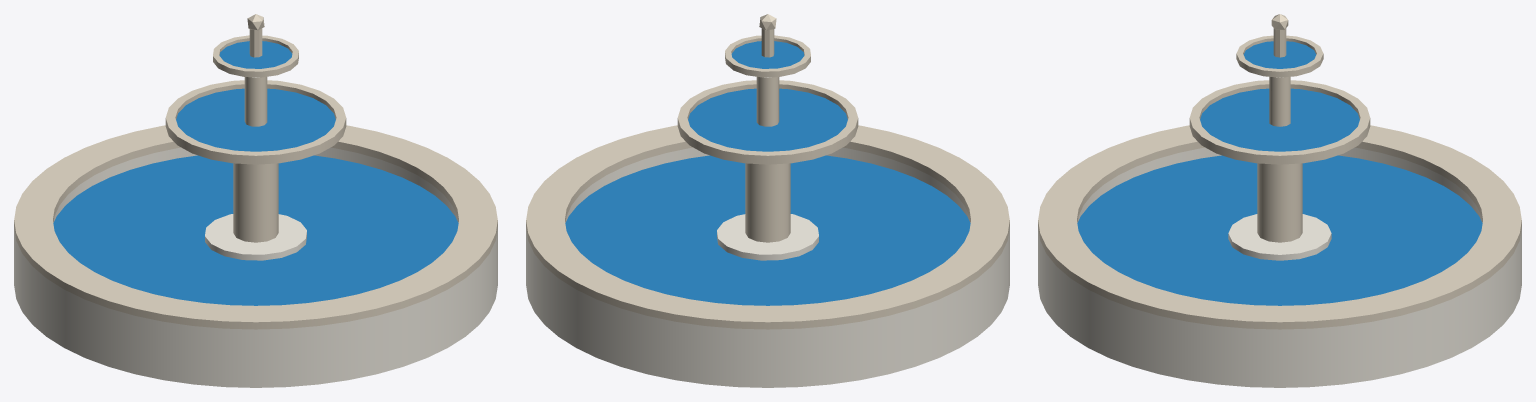
Rendered from fountain.glb.
The picture shows the model from 3 angles, left to right: view 1: azimuth 30°, elevation 25°; view 2: azimuth 150°, elevation 25°; view 3: azimuth 270°, elevation 25°; orthographic projection.
Visible parts, largest first — view 1: body, water; view 2: body, water; view 3: body, water.
Part boxes in pixels (x1,y1,x2,y2): body: (14,14,497,387); water: (53,41,458,305); body: (526,14,1009,387); water: (565,41,970,305); body: (1038,14,1521,387); water: (1077,41,1482,305).
Bounding box in the file's own units: 3 × 1.86 × 3.
